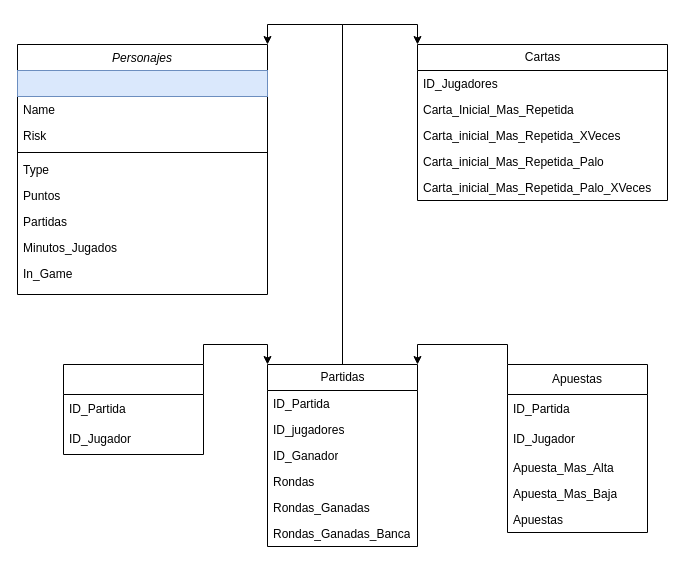
Some shapes in this 685 by 567 pixel diagram are drawn without their labels. The box of each missing label's shape, as (x1, y1, x2, y2) in pixels:
Banca: (62, 364, 204, 454)
ID: (16, 70, 268, 96)
